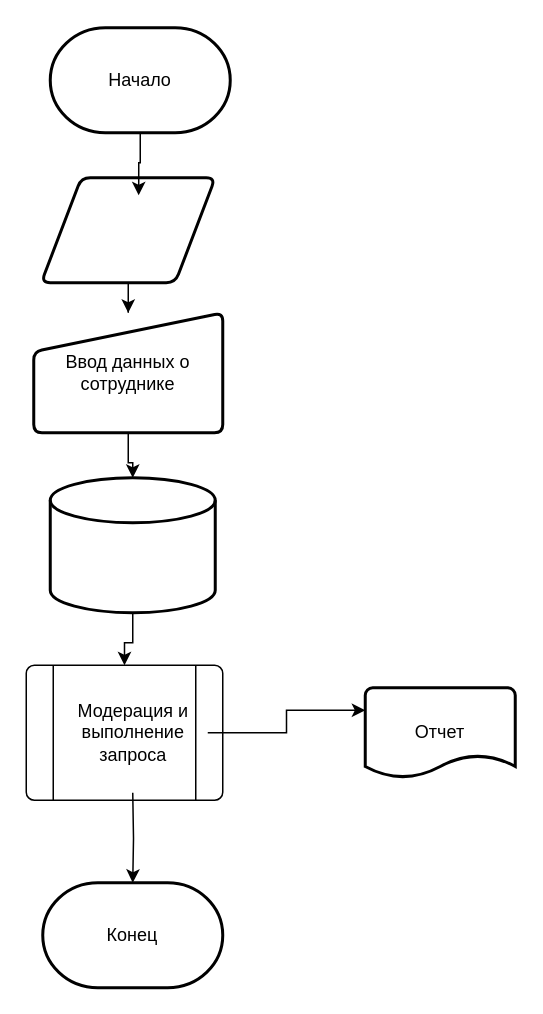
Some shapes in this 543 by 1014 pixel diagram are drawn without their labels. The shapes that lost their labels are listed below. From the top down, each one's centre as x and y in pixels, then its label:
(x=127, y=230): Запрос на поиск
(x=132, y=545): Данные о сотруднике
